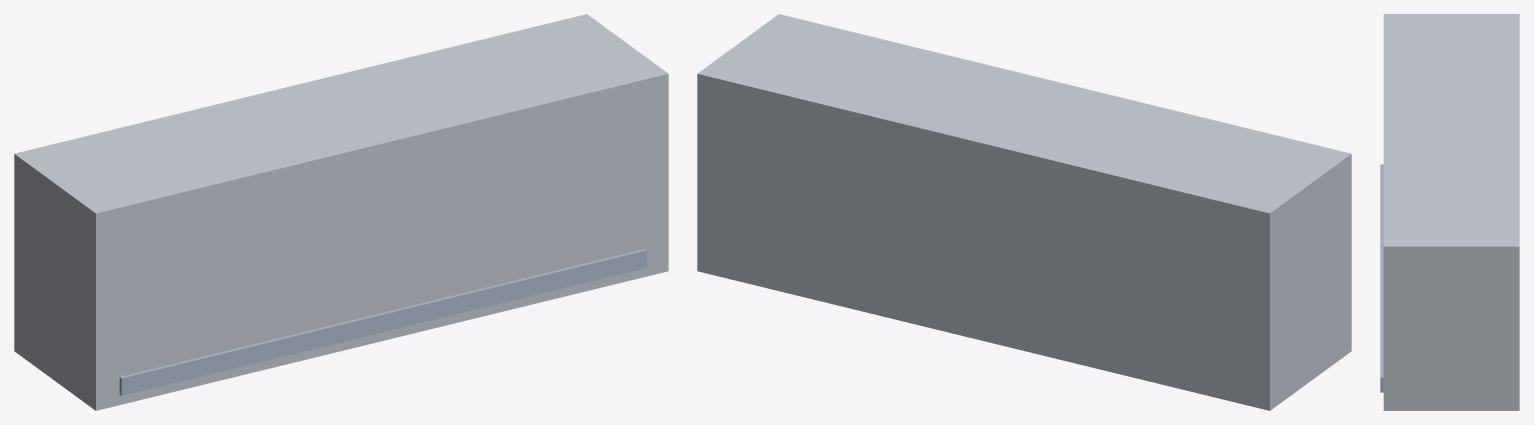
3 views of the same model, side by side, from view 1: azimuth 30°, elevation 25°; view 2: azimuth 150°, elevation 25°; view 3: azimuth 270°, elevation 25° (orthographic). The views are drawn at different scales.
Parts seen in each view (by area): view 1: Body, Vent; view 2: Body; view 3: Body, Vent.
Boxes of the visible parts, x1,y1,x2,y2 form: Body: [14, 14, 668, 410]; Vent: [119, 249, 646, 395]; Body: [697, 14, 1351, 410]; Body: [1383, 14, 1519, 410]; Vent: [1380, 164, 1383, 392].
Bounding box in the file's own units: 0.85 × 0.28 × 0.215.
